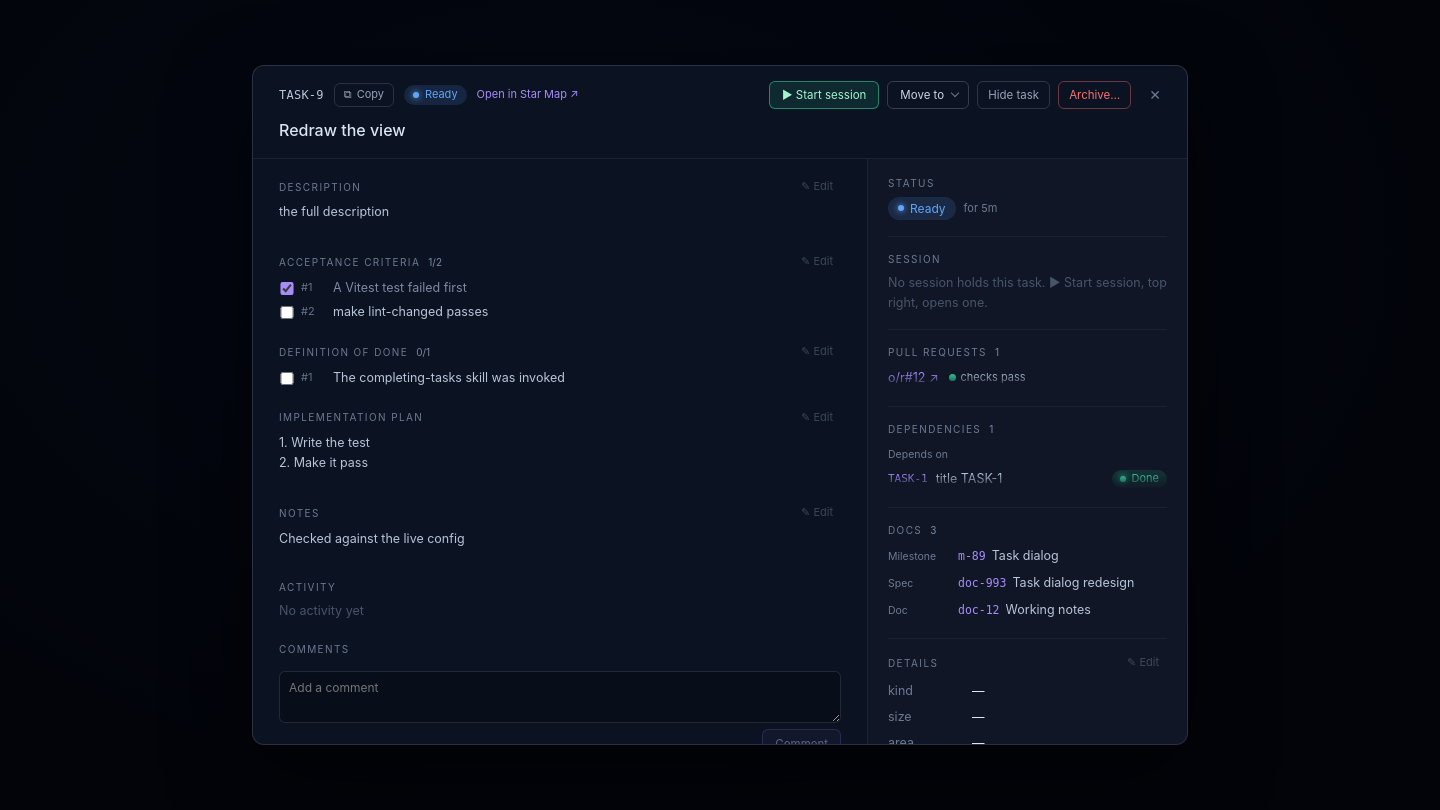
Test case: the task view's Docs › reads the milestone's own description, and loads no mermaid for a doc without a diagram
Step 1. Click the link with class "doc" showing "Milestone m-89Task dialog" → (973, 555), box [888,548,1059,563]
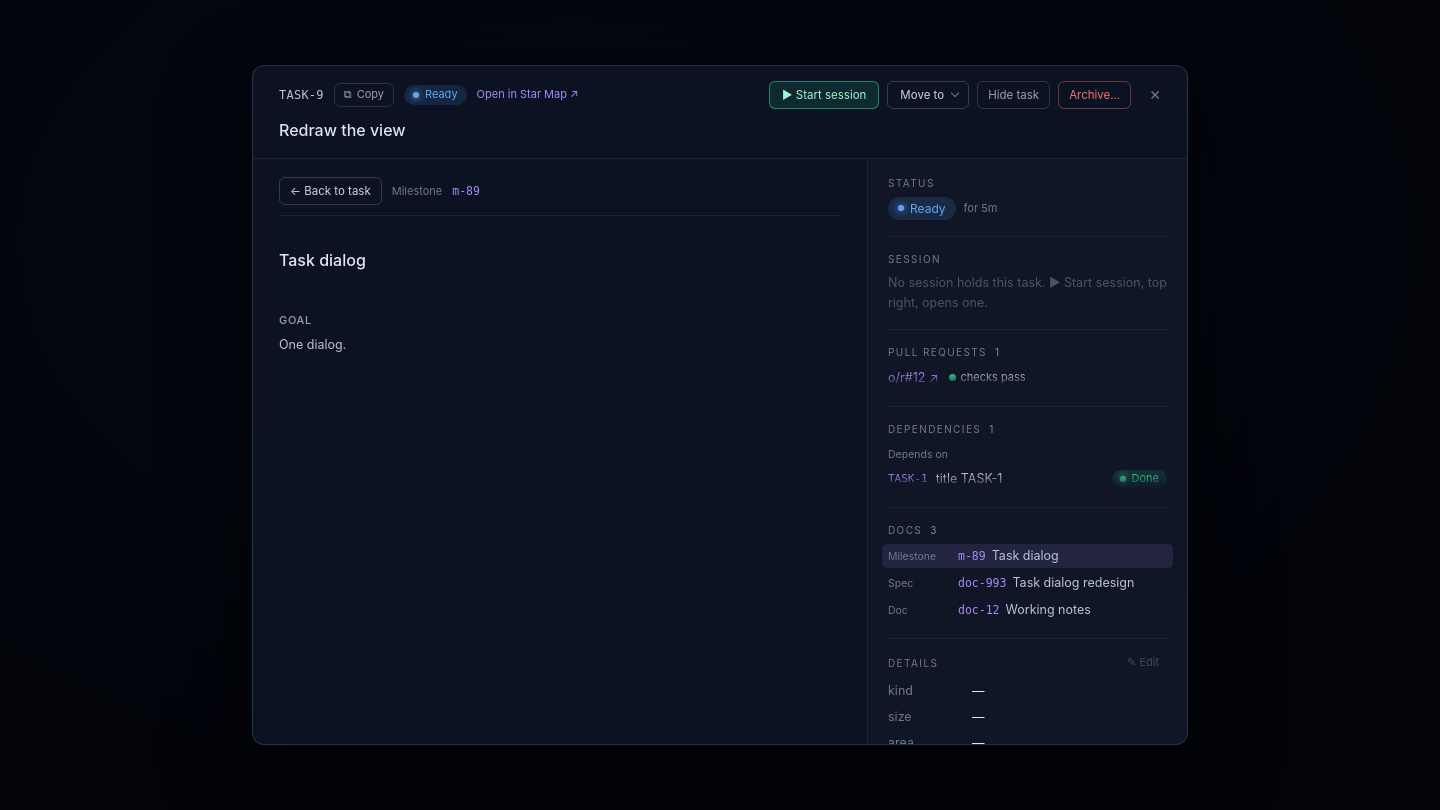
Now the heading "Goal" is shown, box [279,313,312,327]
Step 2. Click the button "← Back to task" → (330, 191), box [279,177,382,205]
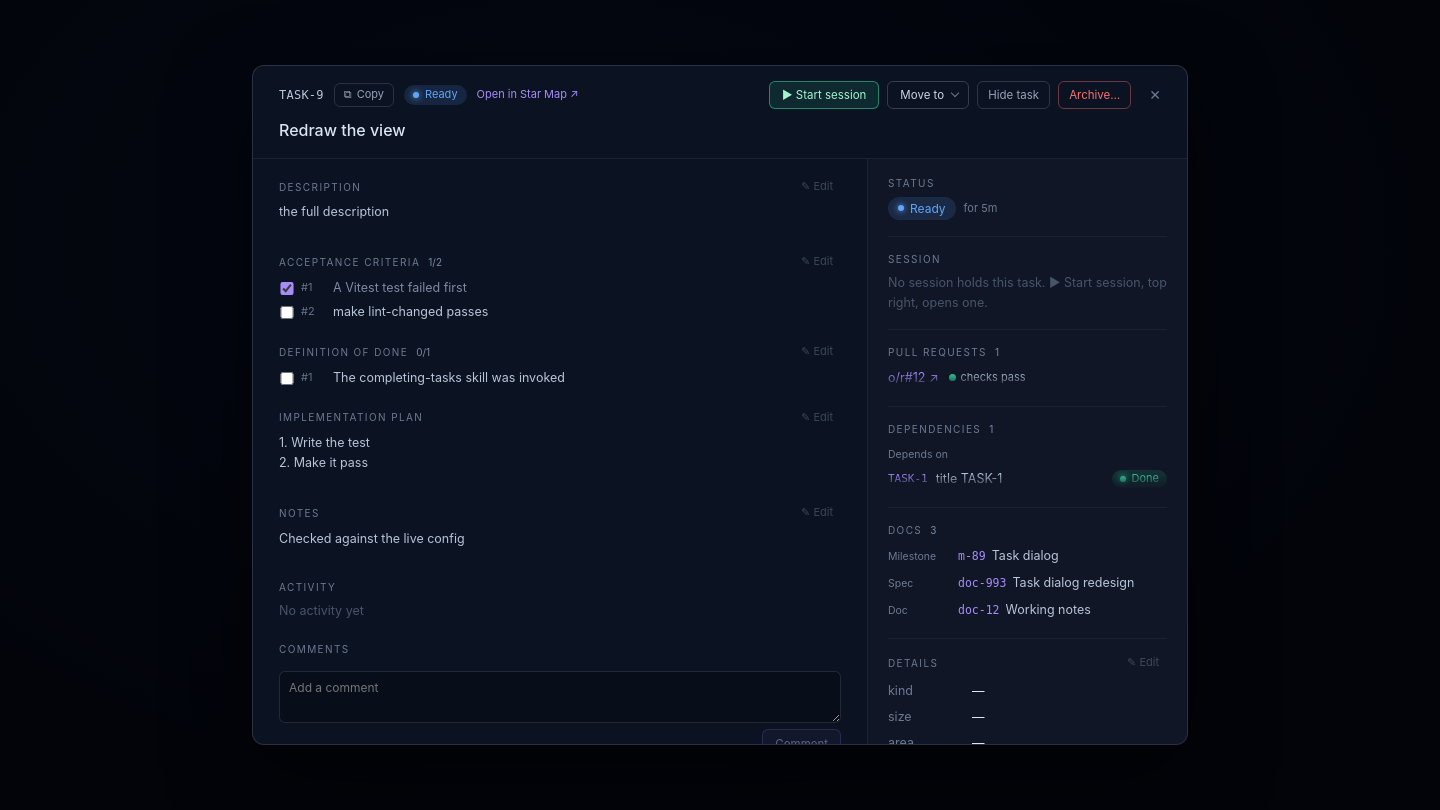
Step 3. Click the link with class "doc" showing "Doc doc-12Working notes" → (989, 609), box [888,602,1091,617]
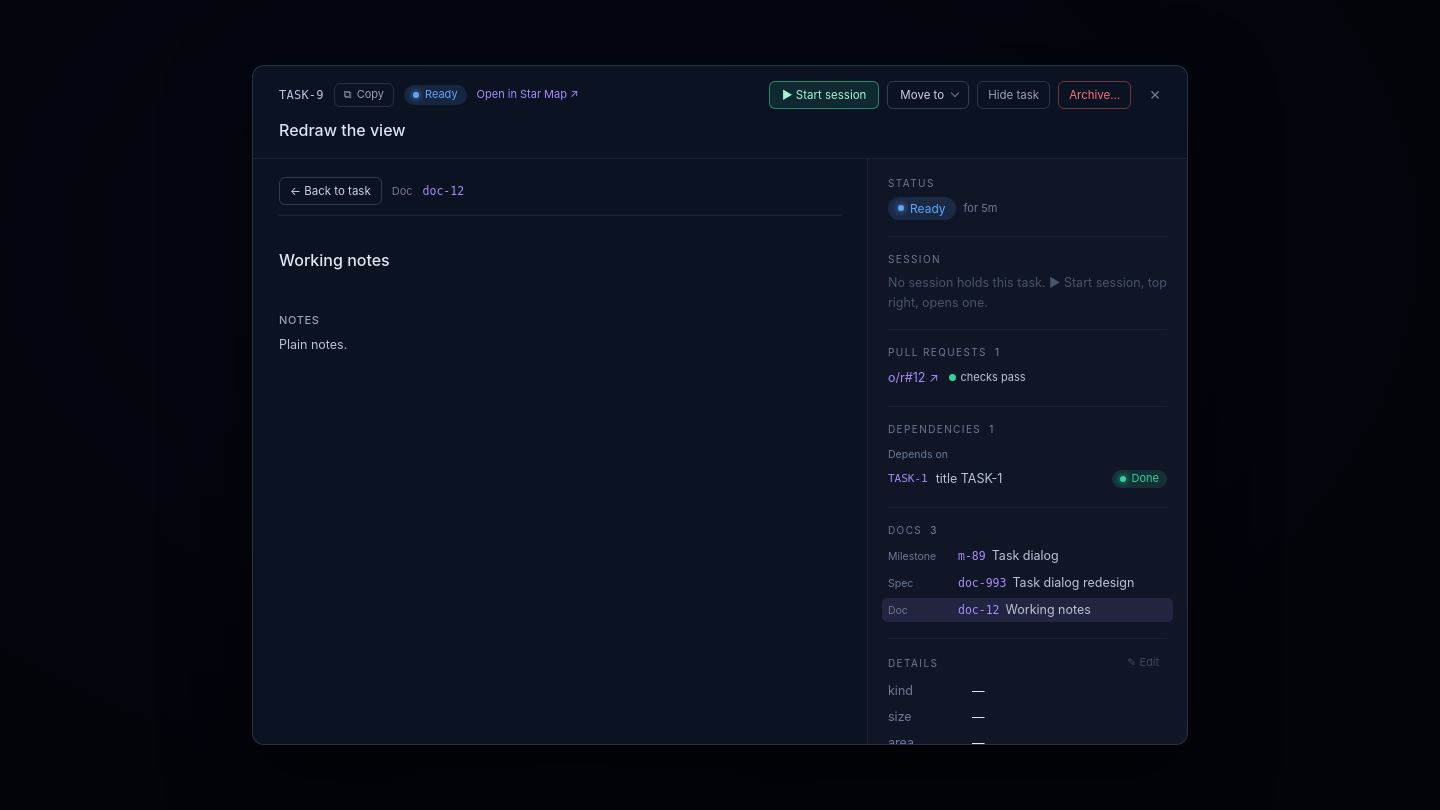
Now the heading "Notes" is shown, box [279,313,320,327]
